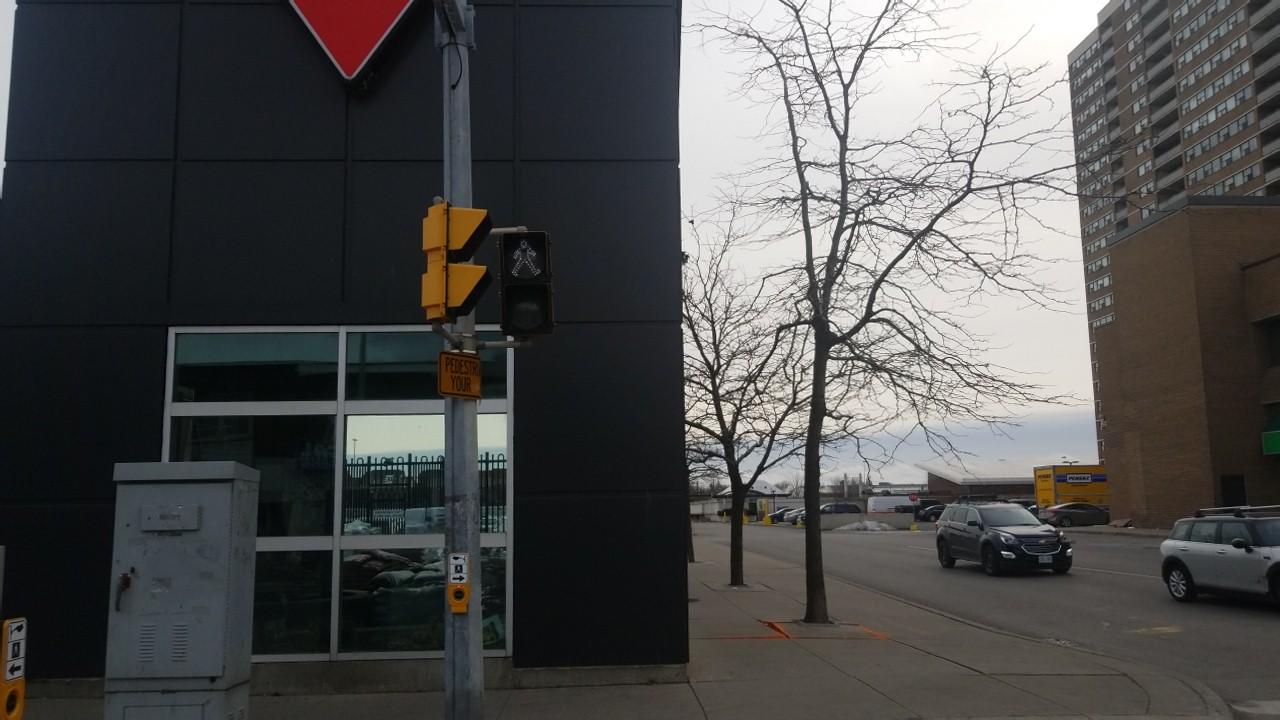light: (491, 223, 558, 333)
